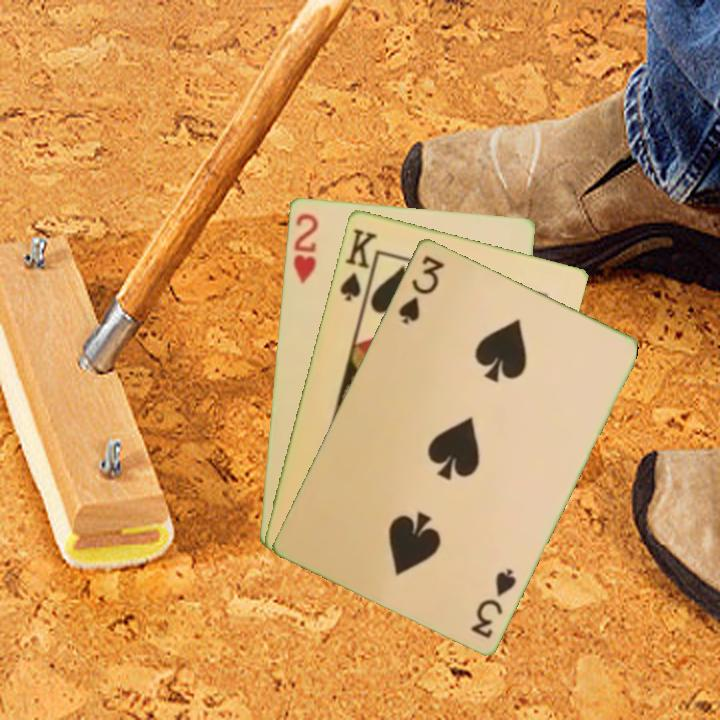2h: (289, 209, 321, 286)
3s: (466, 564, 519, 641), (394, 251, 447, 327)
Ks: (336, 224, 380, 304)
